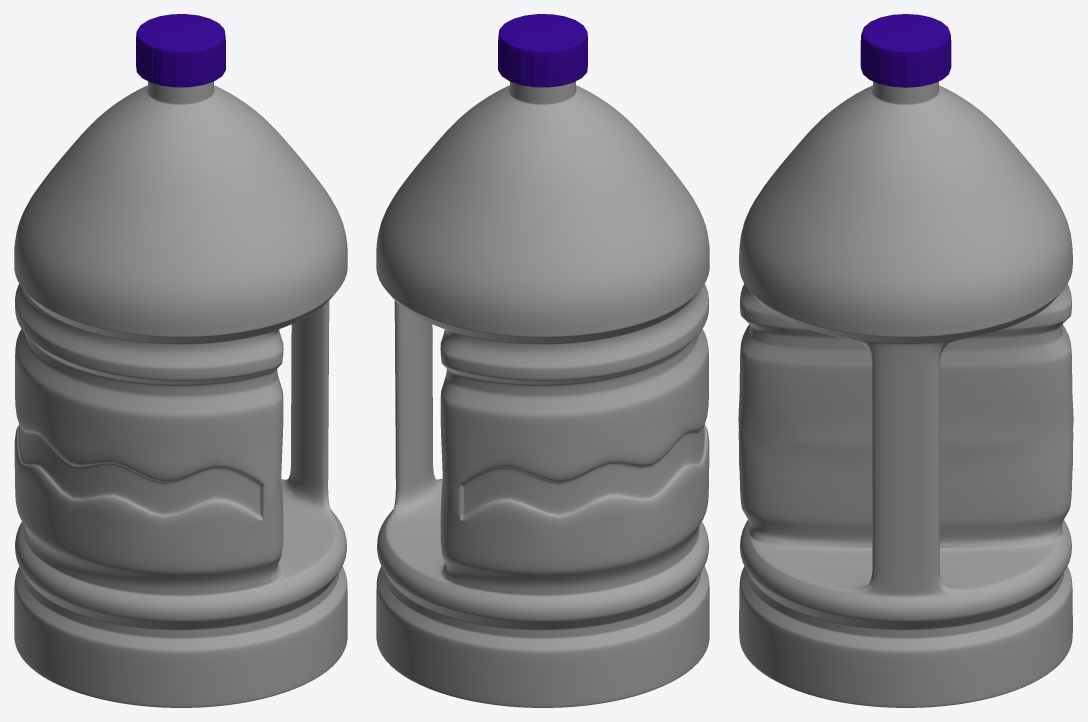
The model's file is water_bottle.glb.
3 views of the same model, side by side, from view 1: azimuth 30°, elevation 25°; view 2: azimuth 150°, elevation 25°; view 3: azimuth 270°, elevation 25° (orthographic).
Visible parts, largest first — view 1: Object_3, Object_2; view 2: Object_3, Object_2; view 3: Object_3, Object_2.
Boxes of the visible parts, x1,y1,x2,y2 form: Object_3: [14, 81, 347, 707]; Object_2: [136, 14, 225, 87]; Object_3: [376, 81, 709, 707]; Object_2: [498, 14, 587, 87]; Object_3: [738, 81, 1073, 707]; Object_2: [860, 14, 951, 87].
Size of the model in its own units: 1.97 by 3.95 by 1.98.
